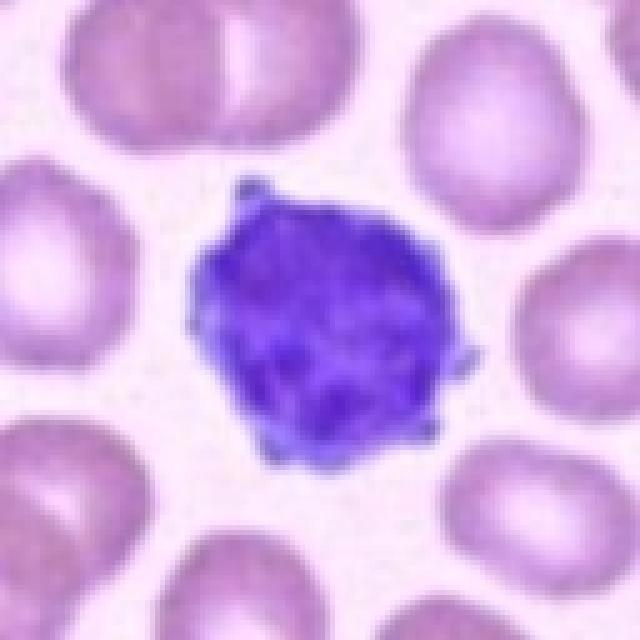lympho: (176, 168, 484, 475)
